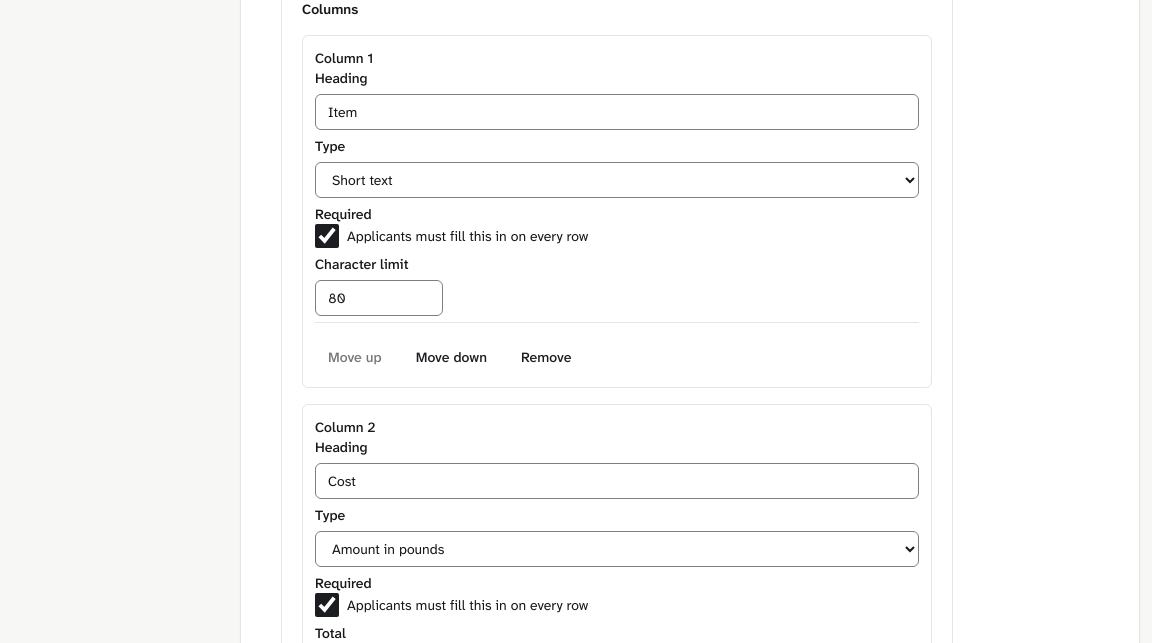
Test case: the columns of a table › are moved with buttons, which keep the focus and say where the column went
(page scrolled)
Step 1. Click the button "Move down" below "Character limit" → (451, 357), box [403,339,500,375]
(page scrolled)
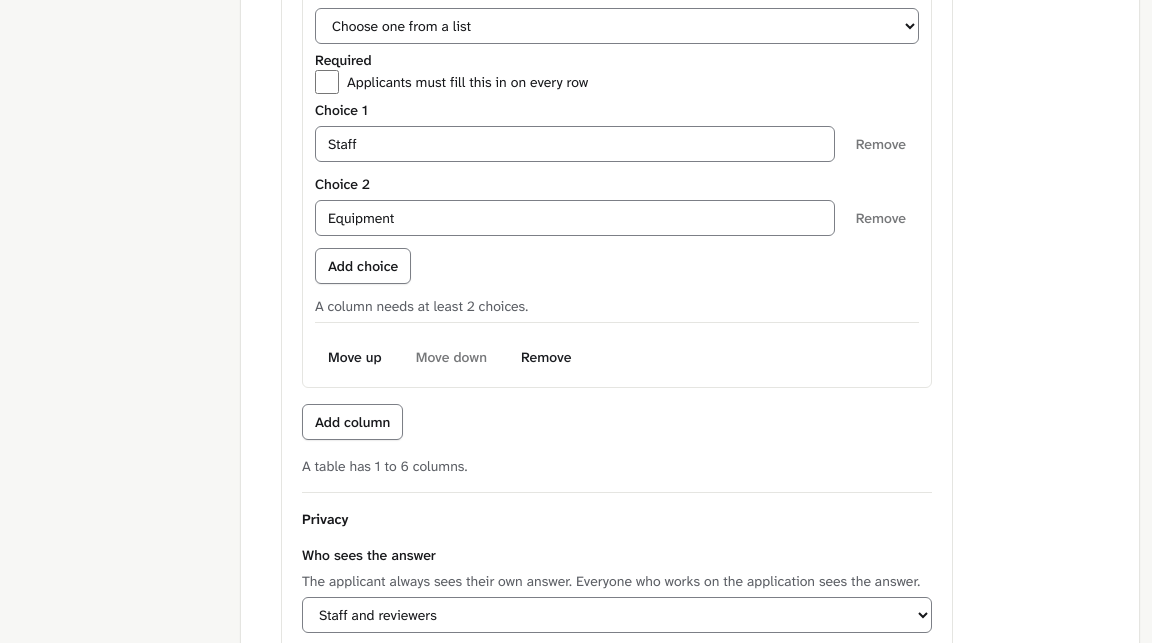
Step 2. Click the button "Move up" → (355, 357), box [315,339,395,375]
(page scrolled)
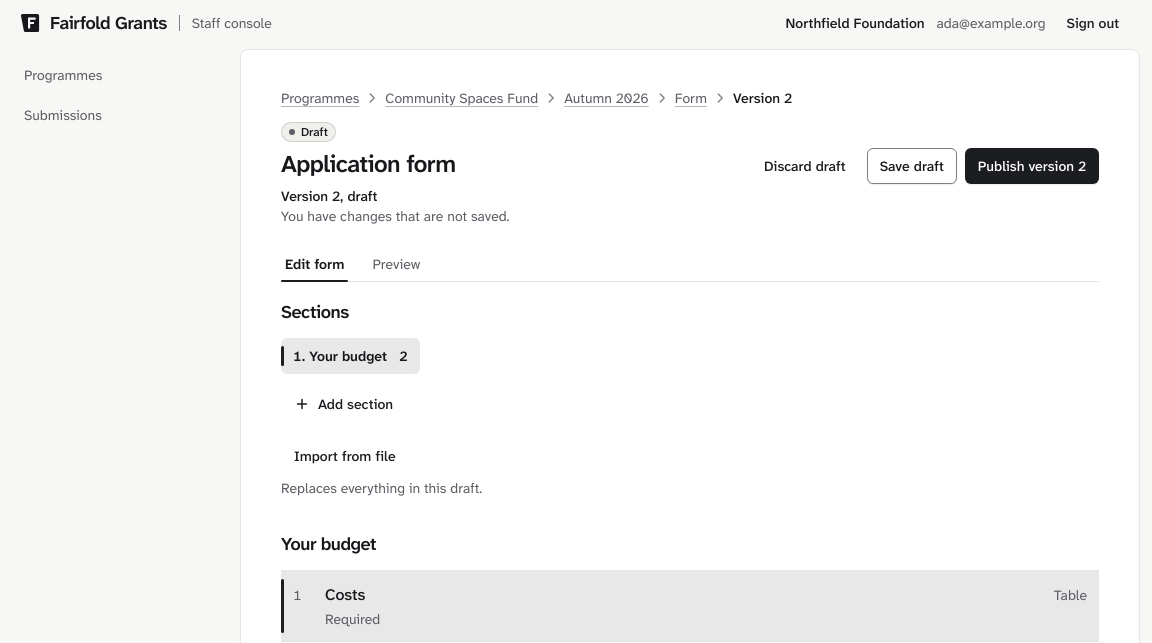
Step 3. Click the button "Save draft" → (912, 166), box [867,148,957,184]
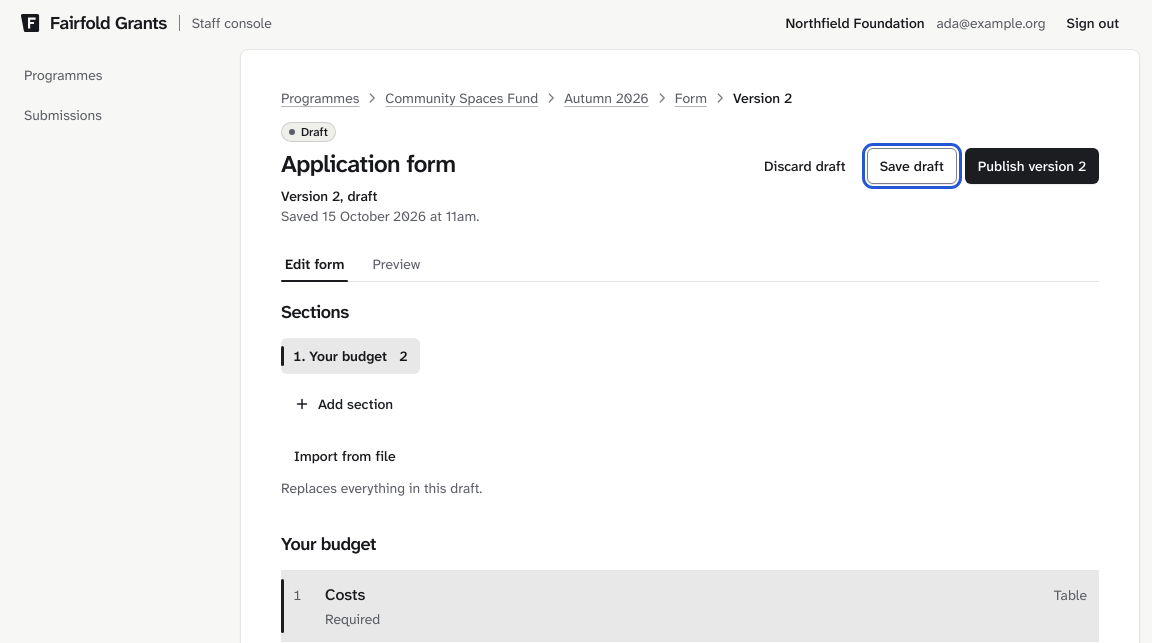
Expected: the text "Saved 15 October 2026 at 11am." is shown, [281,207,479,225]
